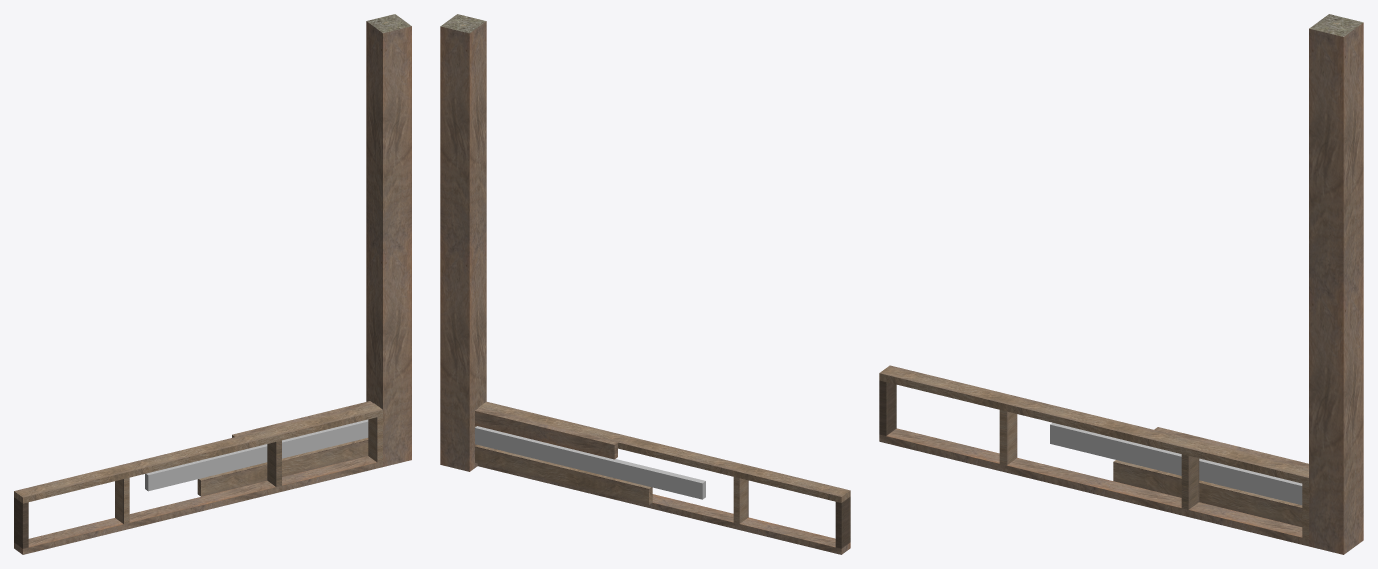
Rendered from WallFloorDividerDestroyB.fbx.
The picture shows the model from 3 angles, left to right: view 1: azimuth 30°, elevation 25°; view 2: azimuth 150°, elevation 25°; view 3: azimuth 330°, elevation 25°; orthographic projection. The views are drawn at different scales.
Parts seen in each view (by area): view 1: WallFloorDividerDestroyB; view 2: WallFloorDividerDestroyB; view 3: WallFloorDividerDestroyB.
Boxes of the visible parts, left/top/right/bottom form: WallFloorDividerDestroyB: left=14, top=14, right=411, bottom=554; WallFloorDividerDestroyB: left=440, top=14, right=850, bottom=554; WallFloorDividerDestroyB: left=879, top=14, right=1363, bottom=554.
Bounding box in the file's own units: 404 × 431 × 30.09.
